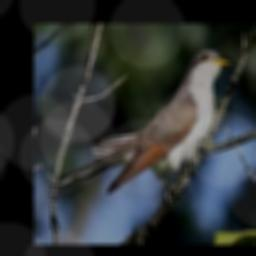Cuckoo: (56, 49, 232, 191)
